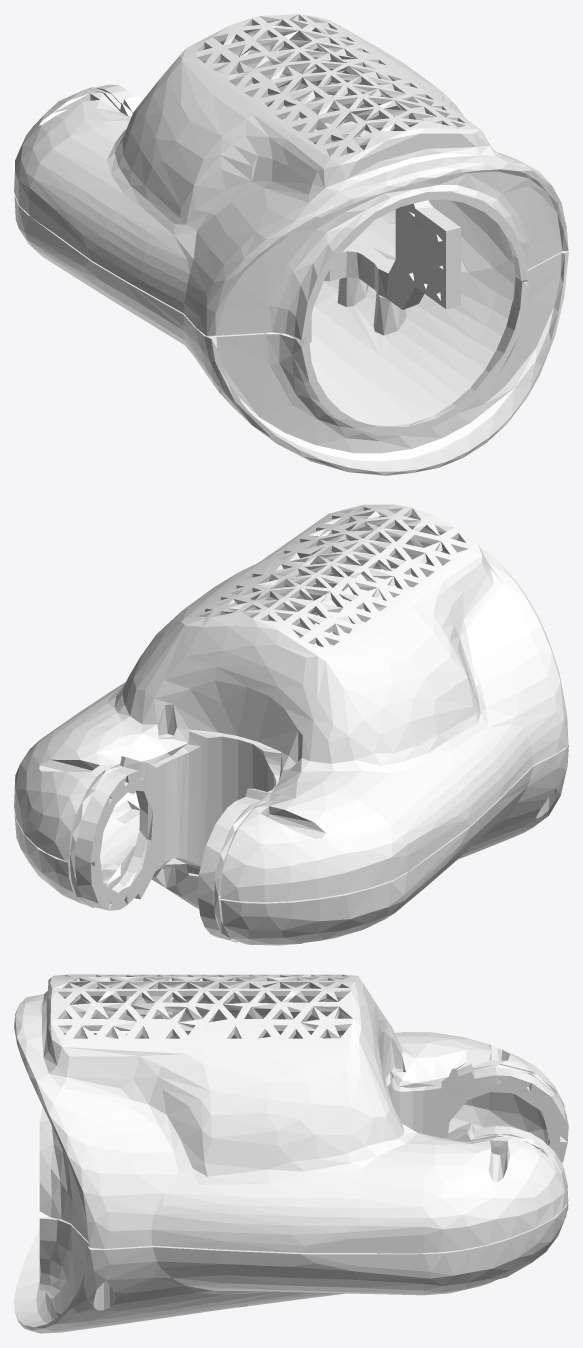
The model's file is arm_5.dae.
The picture shows the model from 3 angles, top to bottom: view 1: azimuth 30°, elevation 25°; view 2: azimuth 150°, elevation 25°; view 3: azimuth 270°, elevation 25°; orthographic projection. The views are drawn at different scales.
Visible parts, largest first — view 1: node; view 2: node; view 3: node.
Boxes of the visible parts, x1,y1,x2,y2 form: node: (14, 14, 568, 475); node: (14, 504, 568, 945); node: (14, 974, 568, 1333).
Size of the model in its own units: 0.152 by 0.1263 by 0.1985.
Materials: 1 (1 with a texture image).
